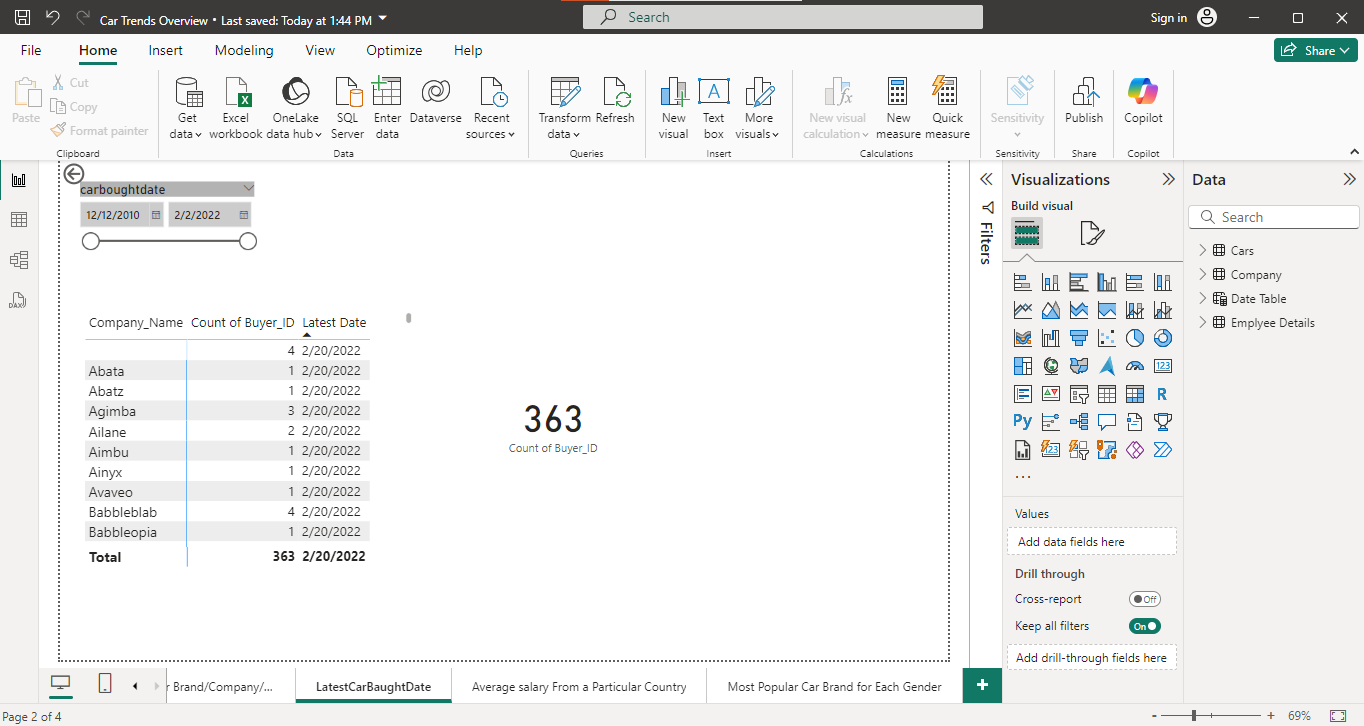

This screenshot's page, from the dashboard's own definition file:
{"tool":"powerbi","page":{"name":"LatestCarBaughtDate","canvas":[1280,720],"ordinal":1},"visuals":[{"type":"slicer","fields":{"Values":["Emplyee Details.carboughtdate"]},"box":[16.2,25.7,277,151.4],"z":0},{"type":"pivotTable","fields":{"Values":["CountNonNull(Emplyee Details.Buyer_ID)","Max(Date Table.Date)"],"Rows":["Company.Company_Name "]},"box":[31.1,214.9,479.7,375.7],"z":1000},{"type":"actionButton","box":[0,0,100,40],"z":2000},{"type":"card","fields":{"Values":["CountNonNull(Emplyee Details.Buyer_ID)"]},"box":[571.6,256.8,277,239.2],"z":3000}]}

Visuals, with their boxes on the page's 1280x720 design canvas (x1, y1, x2, y2). These are canvas units, not pixel positions in the 1364x726 screenshot, which may show the page scaled, cropped or inside an application window:
slicer - Emplyee Details.carboughtdate: box(16, 26, 293, 177)
pivotTable - CountNonNull(Emplyee Details.Buyer_ID) x Max(Date Table.Date): box(31, 215, 511, 591)
actionButton: box(0, 0, 100, 40)
card - CountNonNull(Emplyee Details.Buyer_ID): box(572, 257, 849, 496)
